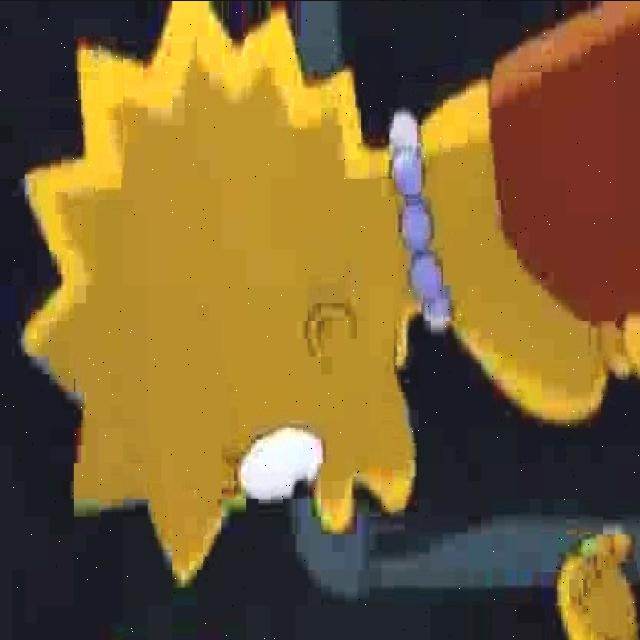Lisa Simpson: (18, 4, 460, 584)
